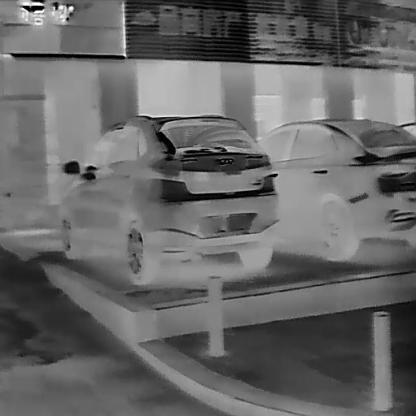car: (58, 113, 279, 284), (256, 115, 416, 261)
